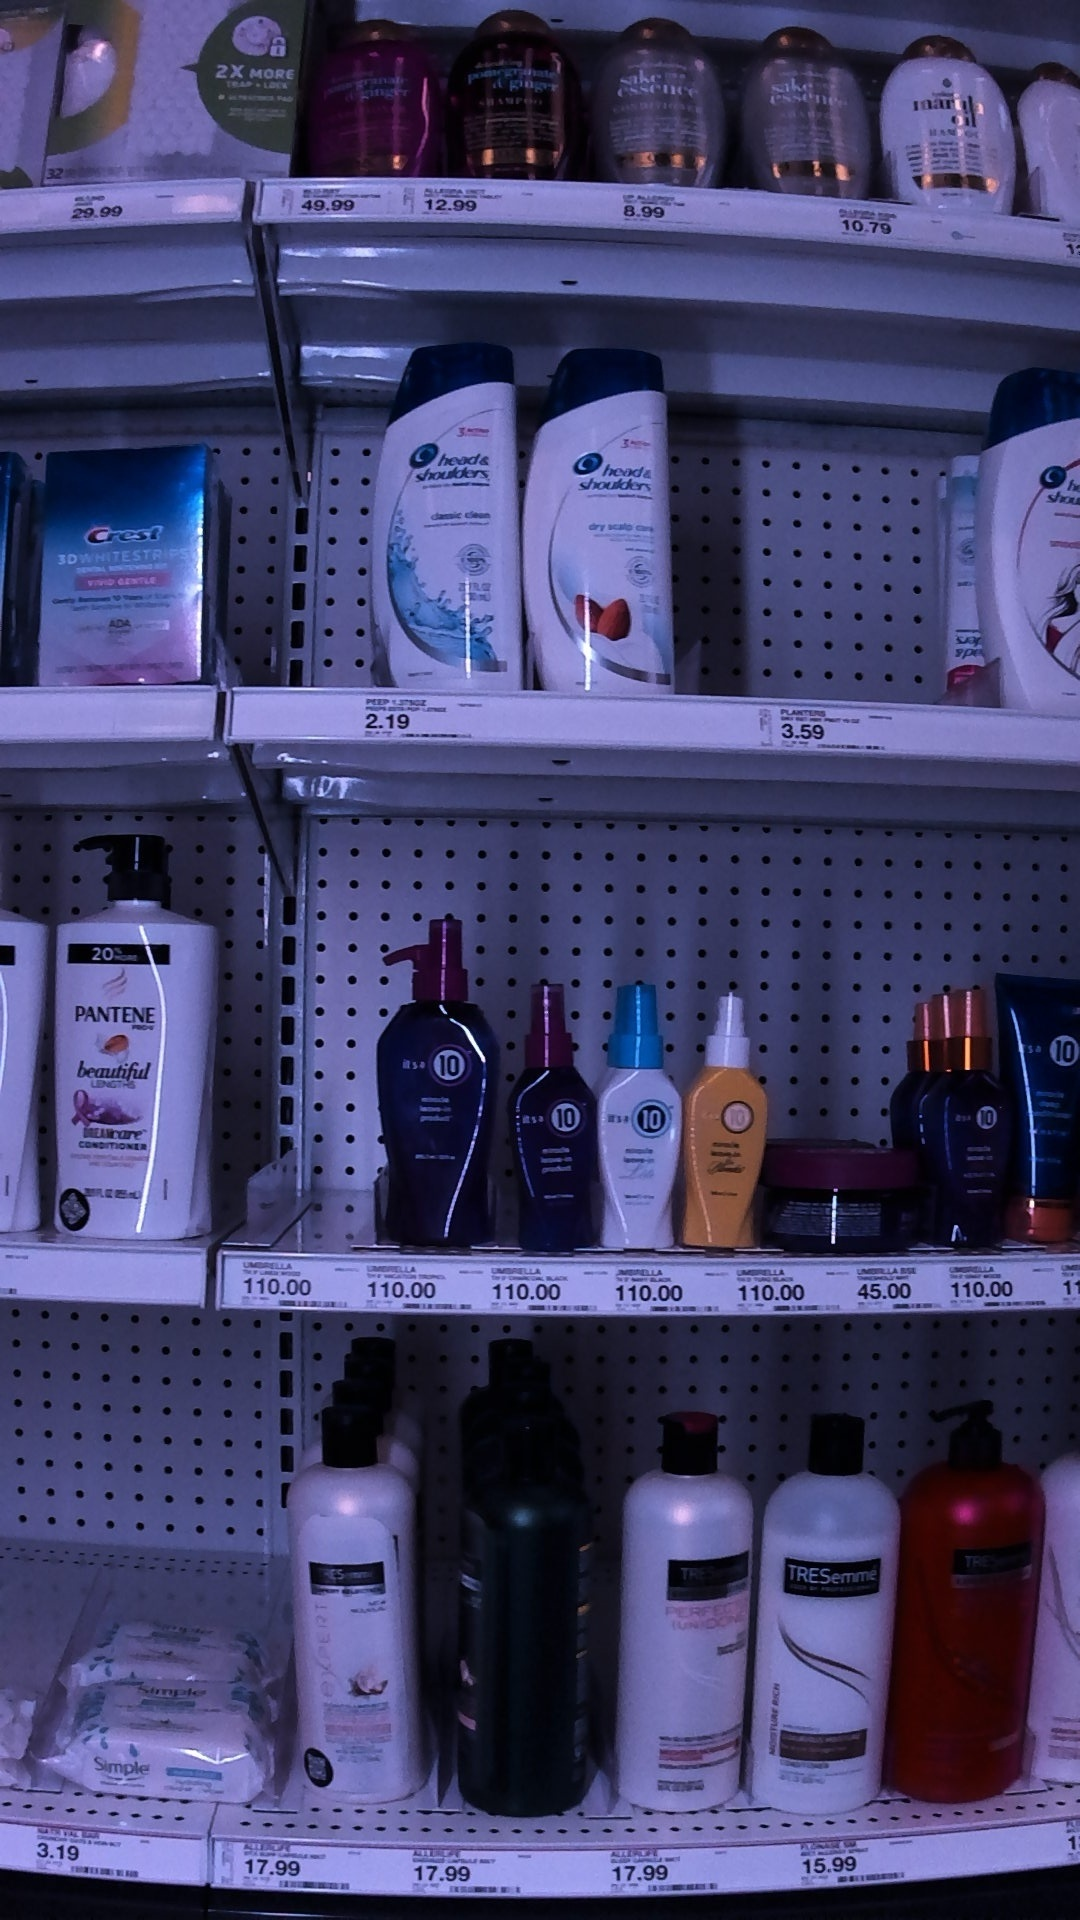ptag: (220, 1242, 353, 1323), (364, 1246, 471, 1324), (607, 1840, 724, 1905), (611, 1255, 723, 1324), (404, 1840, 522, 1904), (33, 1815, 142, 1884), (61, 177, 182, 237), (944, 1251, 1051, 1320), (489, 1257, 597, 1324), (735, 1255, 840, 1324), (237, 1836, 353, 1898), (758, 705, 909, 753), (353, 688, 477, 744), (849, 1253, 935, 1327), (798, 1836, 909, 1891), (276, 177, 371, 231), (613, 179, 694, 235), (822, 200, 902, 251), (413, 177, 480, 231)
